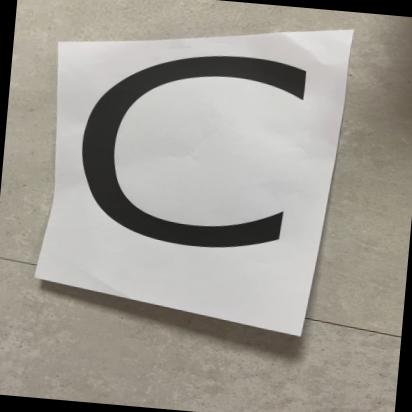seat: (46, 33, 336, 330)
